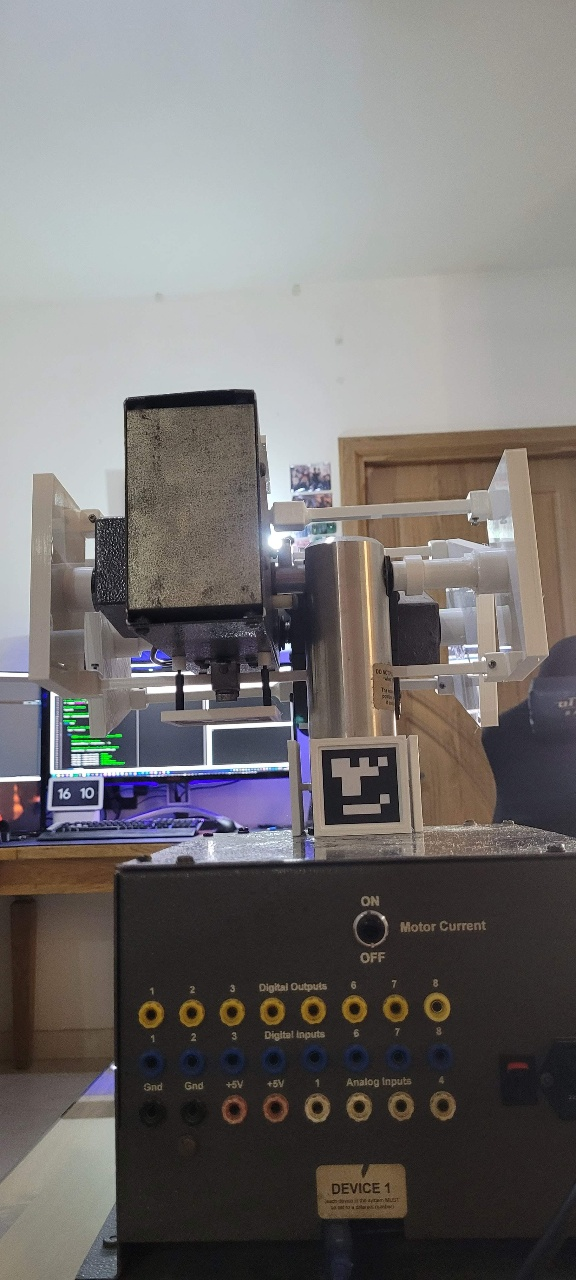Robot: (58, 273, 533, 1075)
